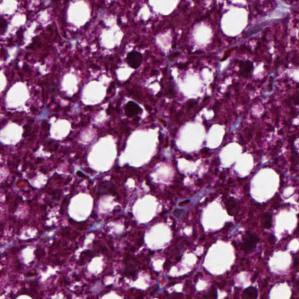steatosis: (175, 118, 225, 154), (120, 125, 154, 171), (85, 133, 118, 173), (248, 165, 280, 204), (203, 241, 238, 274), (220, 5, 252, 39), (67, 189, 93, 221), (64, 2, 95, 28), (49, 116, 74, 141)
